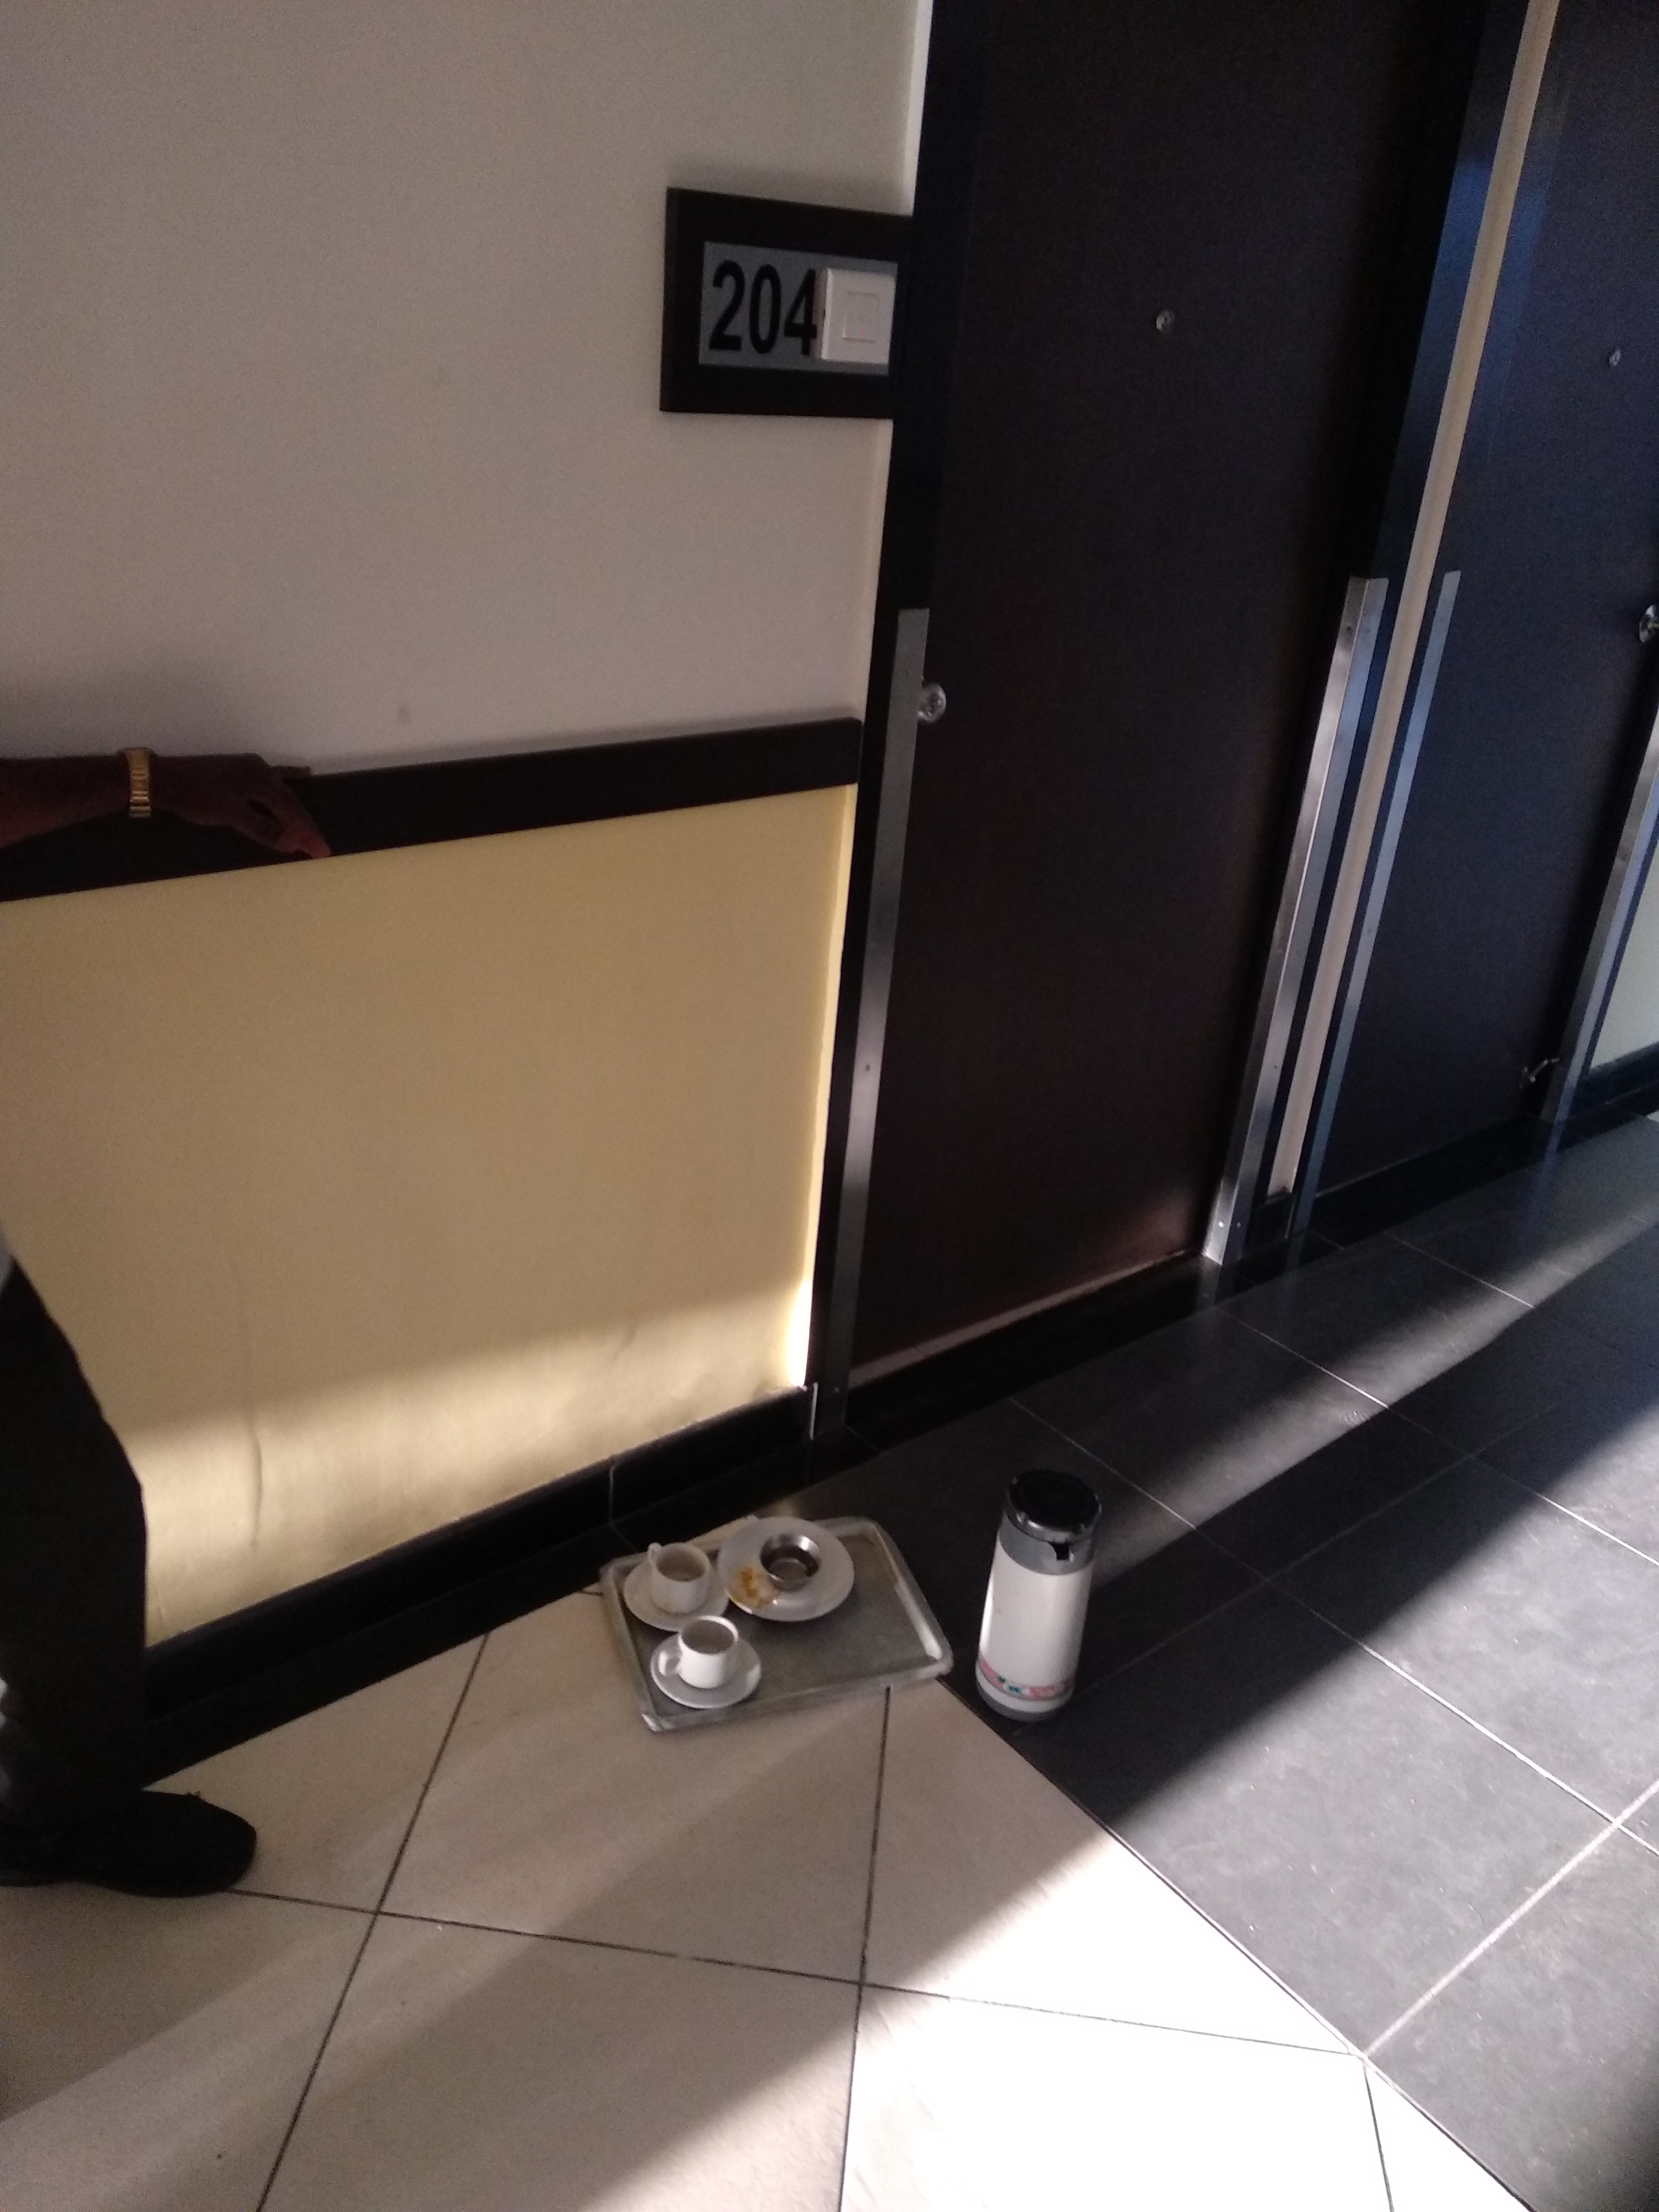CUP: (657, 1611, 746, 1693), (641, 1536, 716, 1611), (758, 1524, 824, 1592)
JUG: (999, 1472, 1098, 1733)
